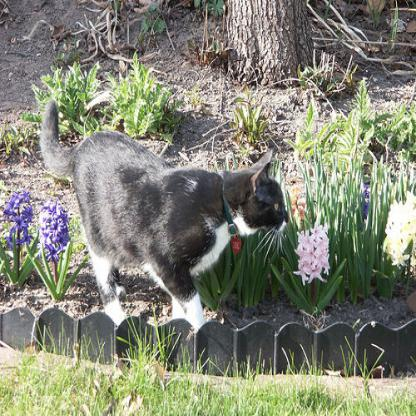cat: (37, 95, 289, 328)
